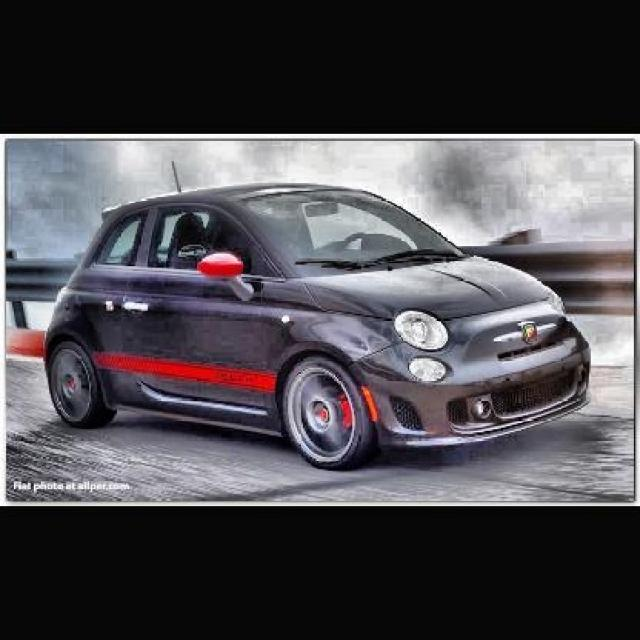black: (46, 190, 590, 464)
